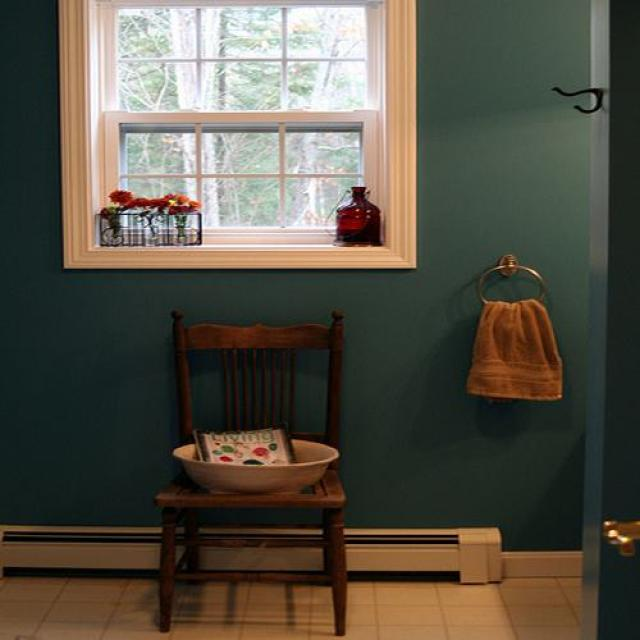chair: (154, 310, 348, 635)
